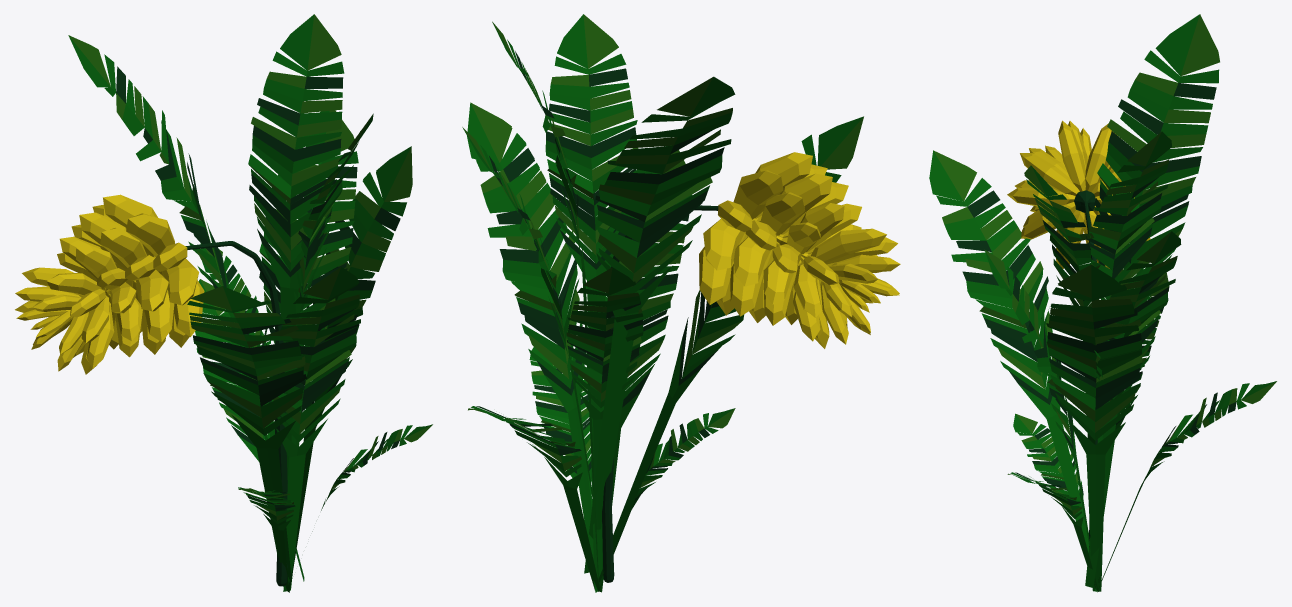
The model's file is lp_baban_1_Plane_003.obj.
3 renders of one model, left to right at view 1: azimuth 30°, elevation 25°; view 2: azimuth 150°, elevation 25°; view 3: azimuth 270°, elevation 25°, orthographic. The views are drawn at different scales.
Parts seen in each view (by area): view 1: lp_baban_1_Plane_003; view 2: lp_baban_1_Plane_003; view 3: lp_baban_1_Plane_003.
Boxes of the visible parts, box(x1,y1,x2,y2) form: lp_baban_1_Plane_003: box(15, 14, 432, 592); lp_baban_1_Plane_003: box(462, 14, 900, 592); lp_baban_1_Plane_003: box(929, 14, 1276, 592).
Bounding box in the file's own units: 9.27 × 12.67 × 7.92.
